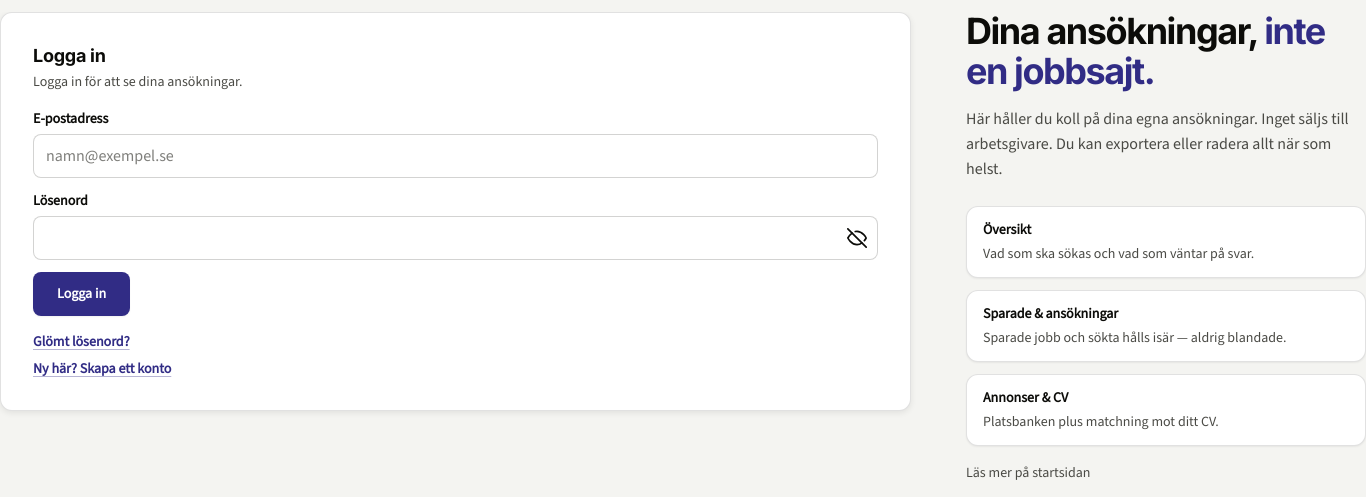
AuthHero › switches to create-account and forgot-password from login
The image size is (1366, 497).
Click the button "Ny här? Skapa ett konto" at (102, 368), box [33,359,171,378]
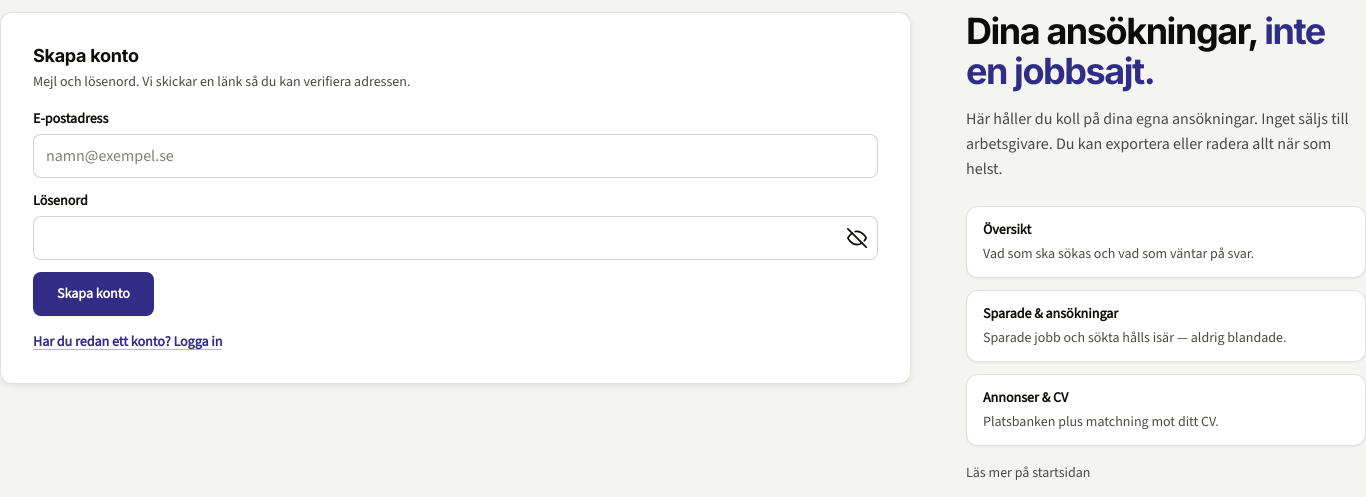
Check: the heading "Skapa konto" is shown, box [33,45,139,66]
Check: the button "Skapa konto" is shown, box [33,272,154,316]
Click the button "Har du redan ett konto? Logga in" at (128, 341), box [33,332,222,351]
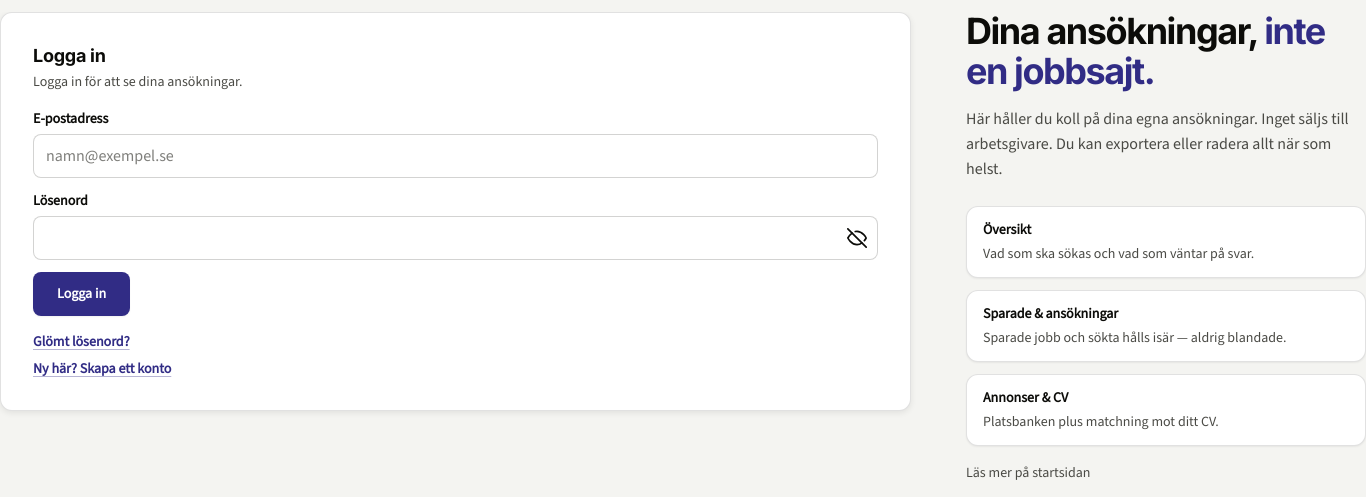
Click the button "Glömt lösenord?" at (81, 341), box [33,332,130,351]
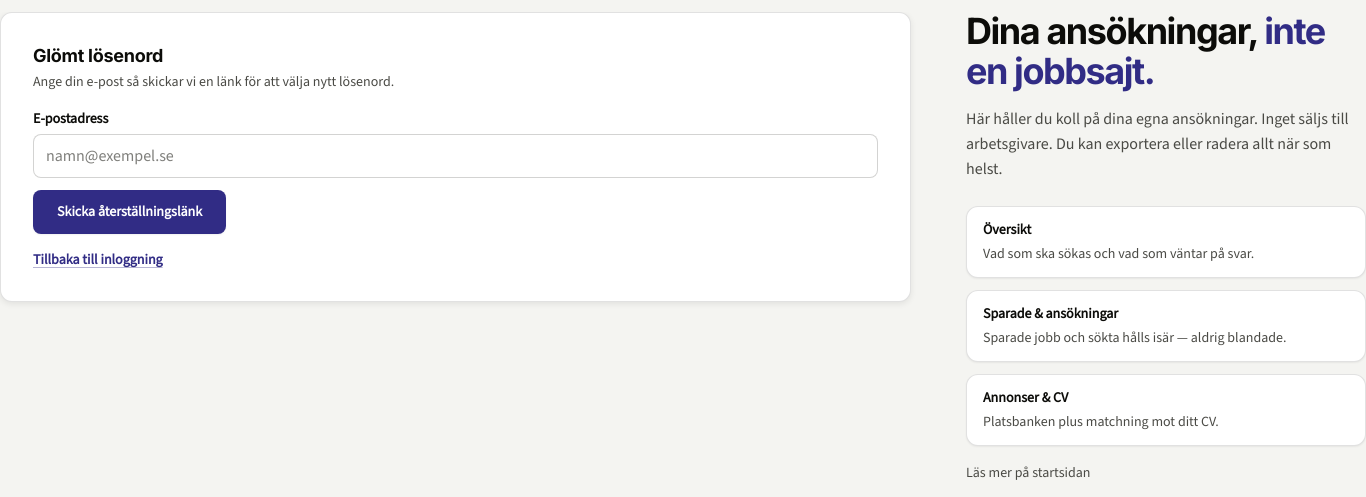
Check: the heading "Glömt lösenord" is shown, box [33,45,163,66]
Check: the button "Skicka återställningslänk" is shown, box [33,190,226,234]
